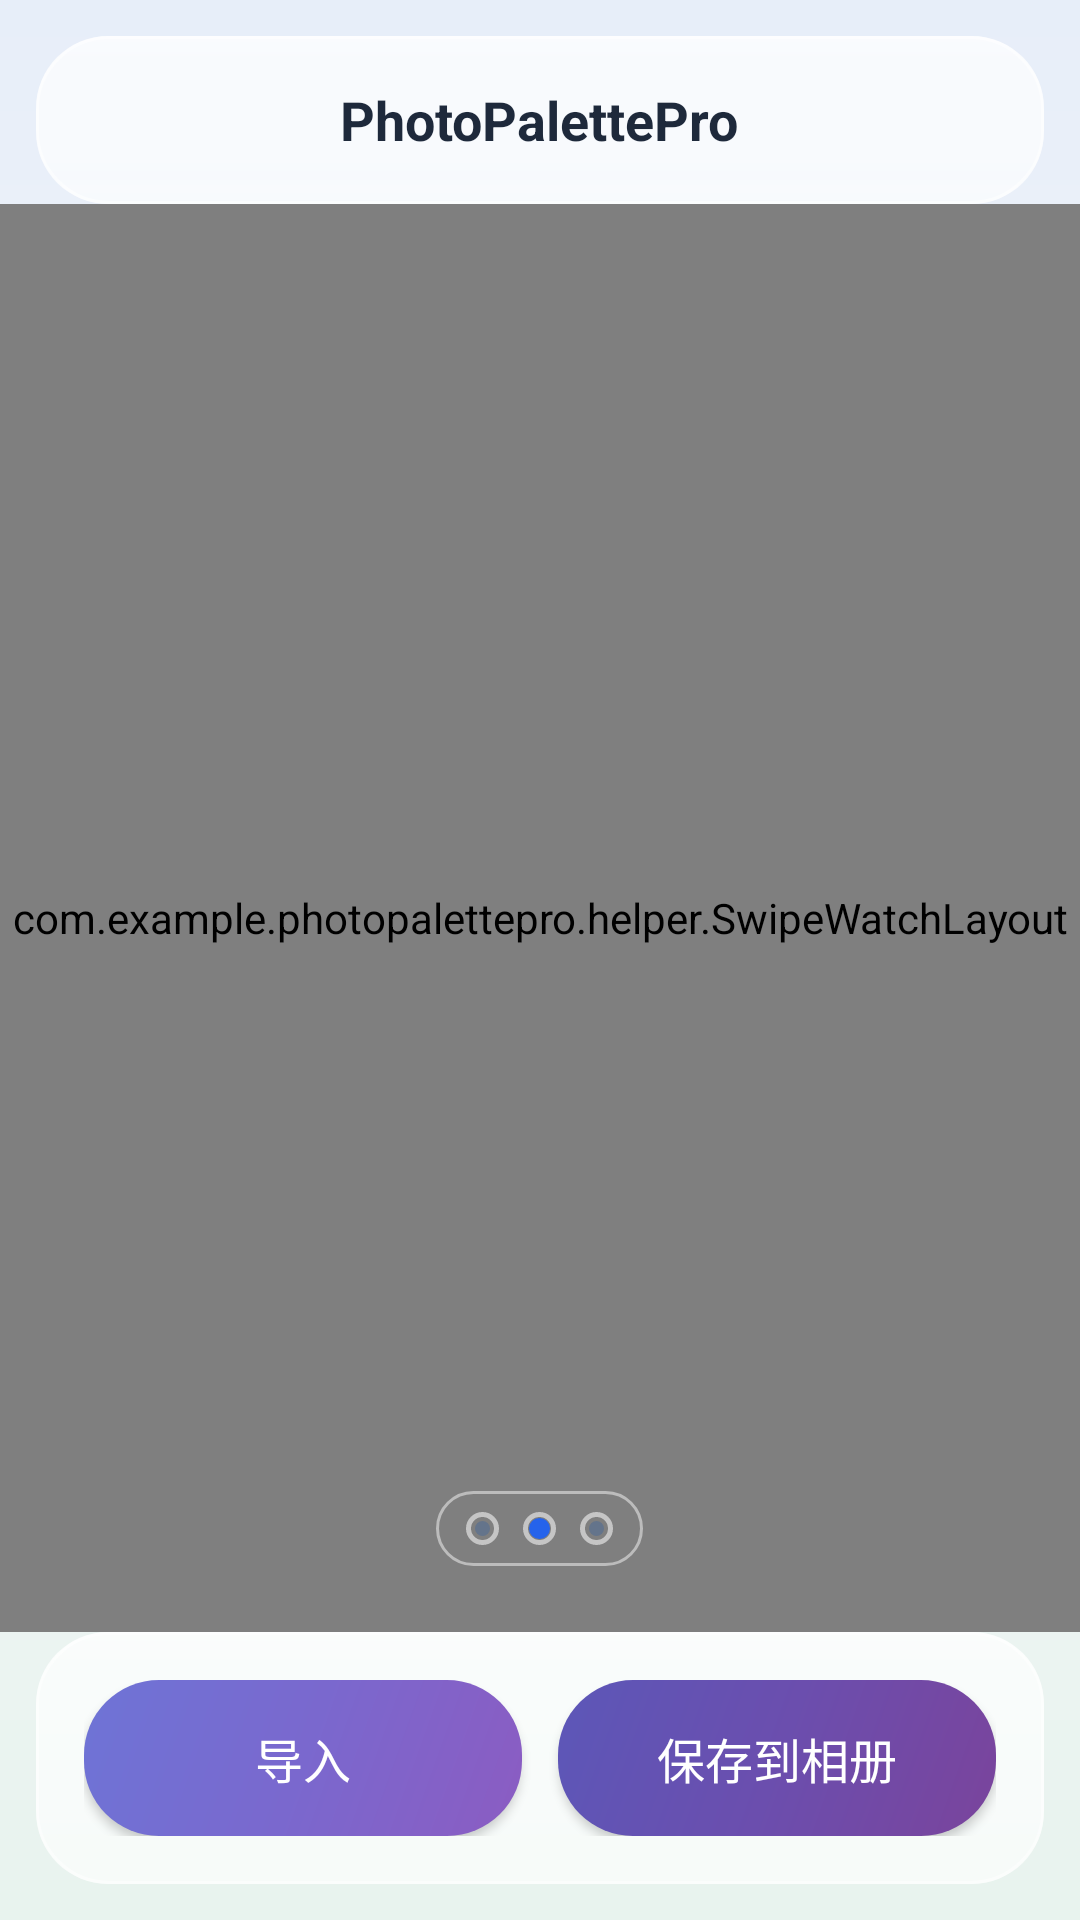

Screen size 1080px×1920px. Icon name, then its box in pixels as {"left": x1, "top": y1, "right": x2, "bottom": y2}:
indicator dot off: {"left": 466, "top": 1512, "right": 499, "bottom": 1545}, {"left": 580, "top": 1512, "right": 613, "bottom": 1545}
indicator dot on: {"left": 523, "top": 1512, "right": 556, "bottom": 1545}
